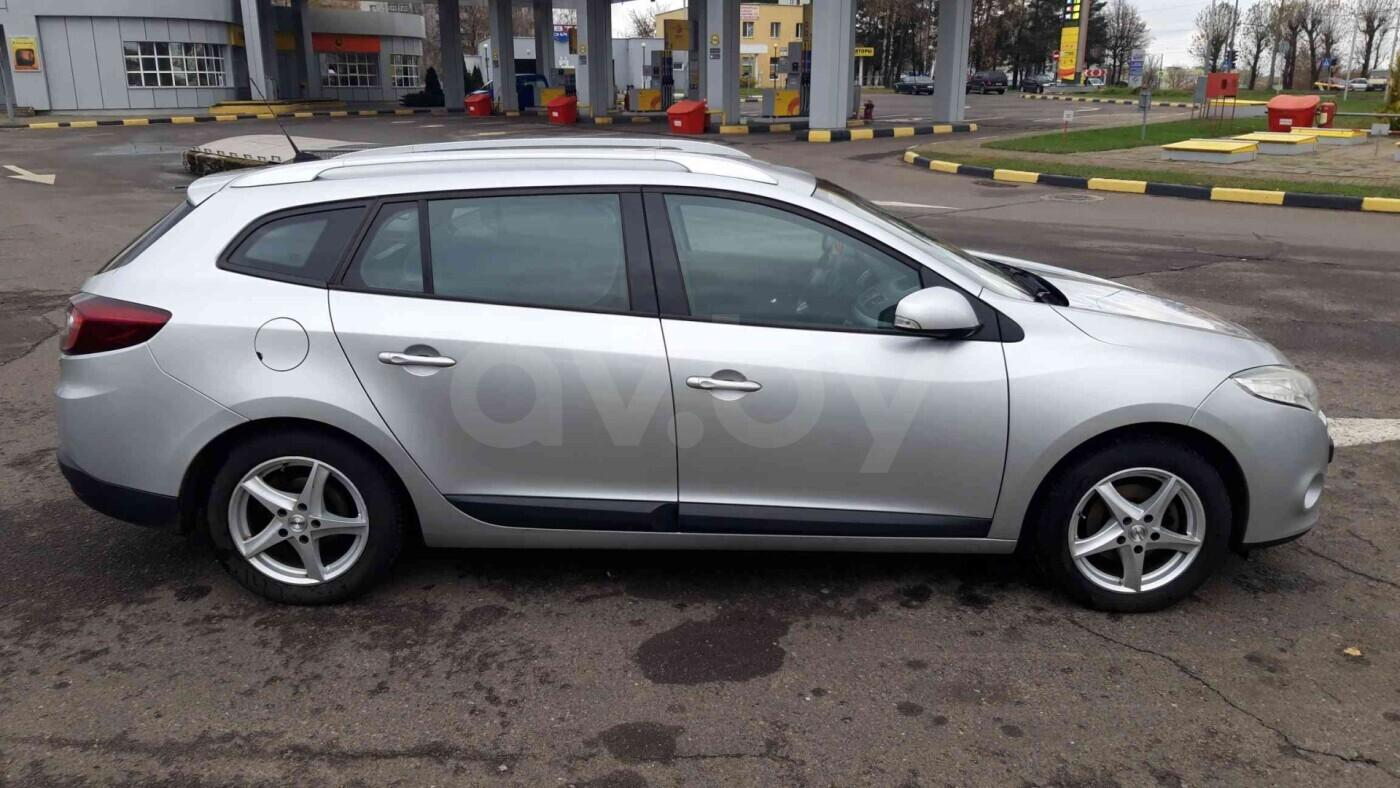Megane_2008-2014: (46, 142, 1337, 612)
